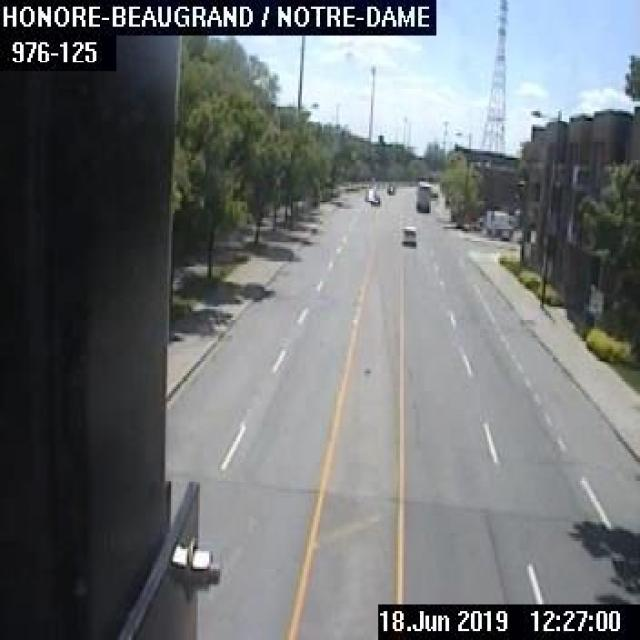vehicle: (413, 180, 430, 213), (400, 224, 416, 246), (369, 193, 379, 204), (383, 182, 392, 194)
